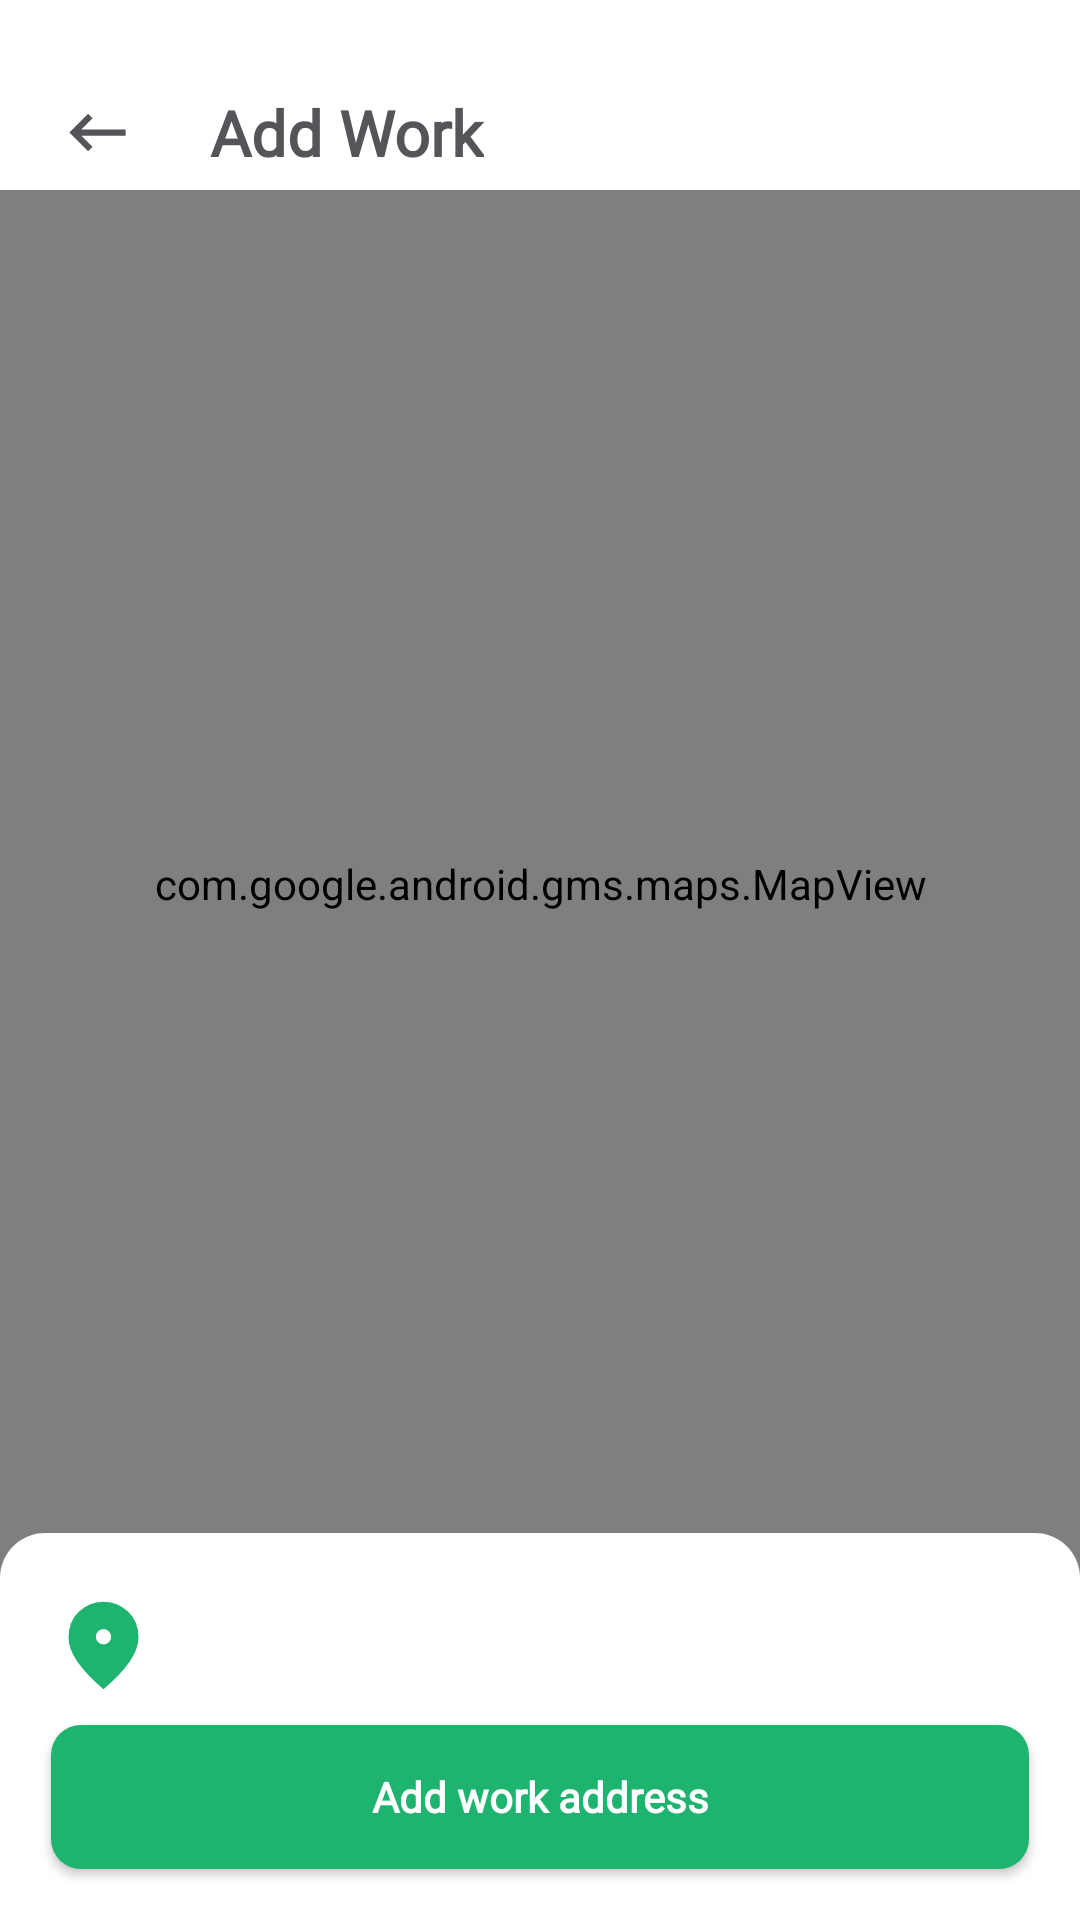

Icon bounding boxes for this 1080px×1920px phone screenshot, format (x1, y1, x2, y2):
keyboard backspace: (69, 114, 126, 151)
location on: (68, 1601, 139, 1690)
